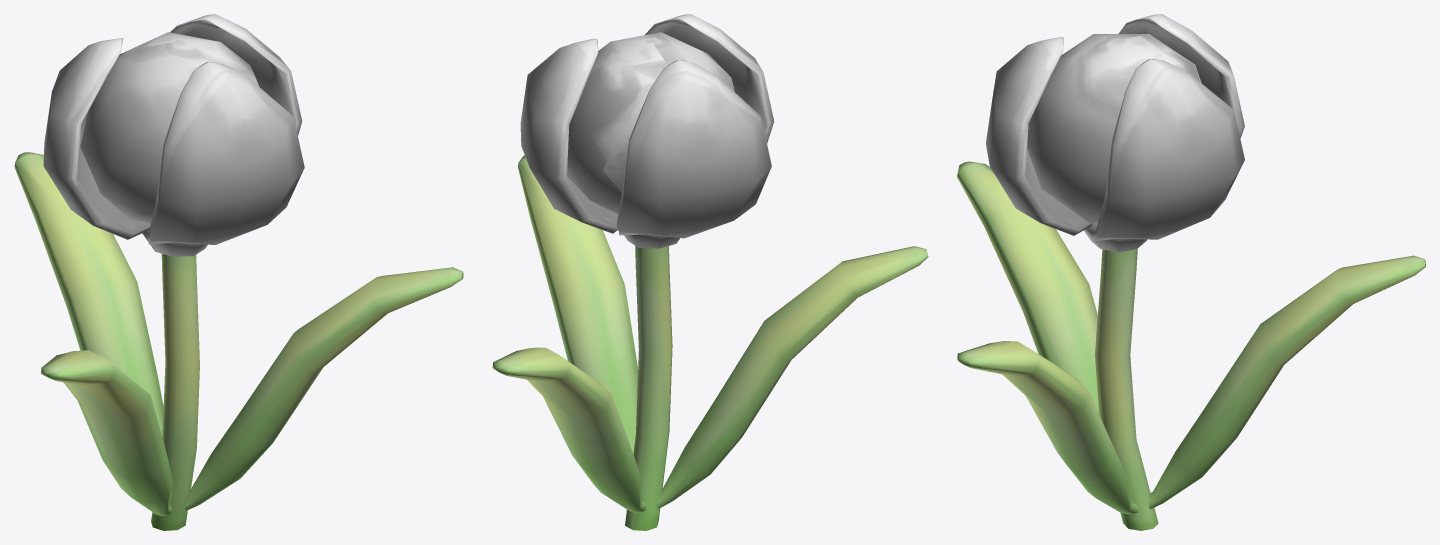
Rendered from Flower_Silver.fbx.
The picture shows the model from 3 angles, left to right: view 1: azimuth 30°, elevation 25°; view 2: azimuth 150°, elevation 25°; view 3: azimuth 270°, elevation 25°; orthographic projection. The views are drawn at different scales.
Visible parts, largest first — view 1: Flower_Leaf.003, Flower_Petal1.003, Flower_Pistil.003, Flower_Petal2.003, Flower_Stem.003, Flower_Receptacles.003; view 2: Flower_Leaf.003, Flower_Petal2.003, Flower_Pistil.003, Flower_Stem.003, Flower_Petal1.003, Flower_Receptacles.003; view 3: Flower_Leaf.003, Flower_Petal2.003, Flower_Pistil.003, Flower_Stem.003, Flower_Petal1.003, Flower_Receptacles.003.
Part boxes in pixels (<box>): Flower_Leaf.003: <box>14,152,463,516</box>; Flower_Petal1.003: <box>147,62,304,244</box>; Flower_Pistil.003: <box>80,32,259,222</box>; Flower_Petal2.003: <box>43,14,302,239</box>; Flower_Stem.003: <box>151,254,199,530</box>; Flower_Receptacles.003: <box>142,222,207,256</box>; Flower_Leaf.003: <box>492,155,928,512</box>; Flower_Petal2.003: <box>520,38,771,238</box>; Flower_Pistil.003: <box>567,32,734,214</box>; Flower_Stem.003: <box>625,245,672,530</box>; Flower_Petal1.003: <box>645,14,774,143</box>; Flower_Receptacles.003: <box>624,234,679,248</box>; Flower_Leaf.003: <box>957,161,1425,514</box>; Flower_Petal2.003: <box>1091,14,1244,241</box>; Flower_Pistil.003: <box>1027,34,1201,222</box>; Flower_Stem.003: <box>1095,248,1158,530</box>; Flower_Petal1.003: <box>986,37,1092,235</box>; Flower_Receptacles.003: <box>1084,222,1147,252</box>.
Bounding box in the file's own units: 48.22 × 54.22 × 47.51.
Materials: 6 (6 with a texture image).
